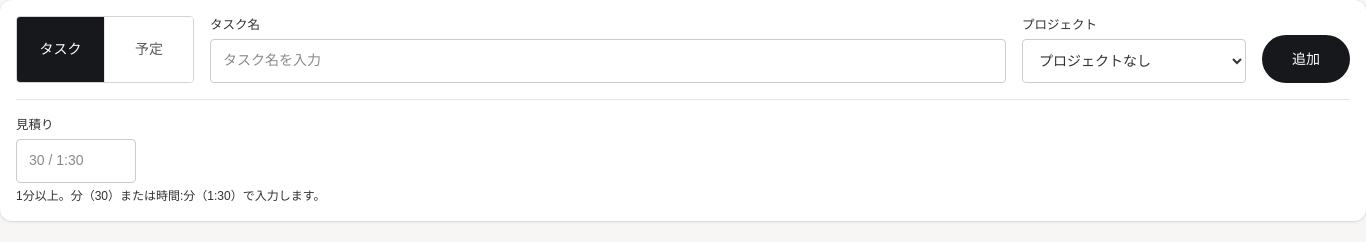
Test: InboxQuickCreate › validates schedule date relationships before submit
Click the tab "予定".
click(149, 49)  # box x1=105 y1=17 x2=193 y2=82
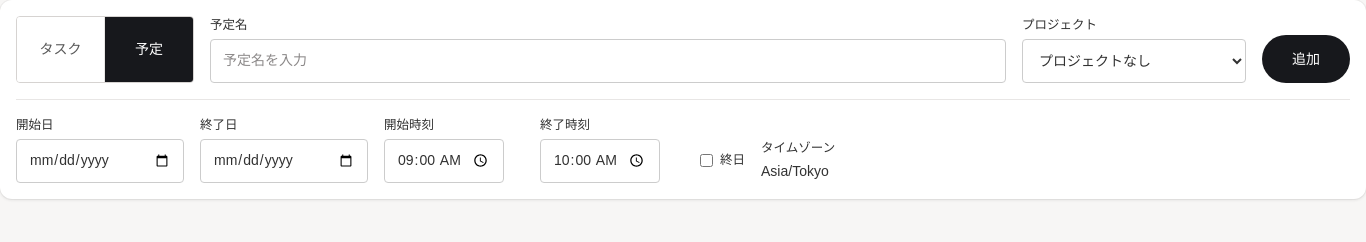
Type "2026-10-15" into the date field labelled "開始日".
click(100, 160); type("2026-10-15")  # box x1=16 y1=138 x2=184 y2=182
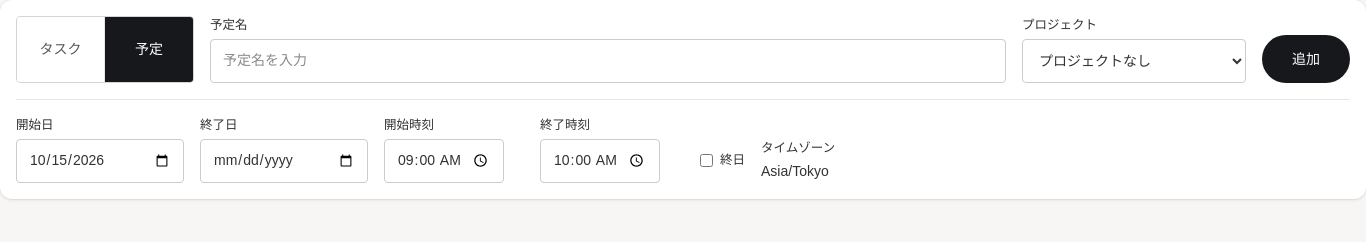
Type "2026-10-14" into the date field labelled "終了日".
click(284, 160); type("2026-10-14")  # box x1=200 y1=138 x2=368 y2=182
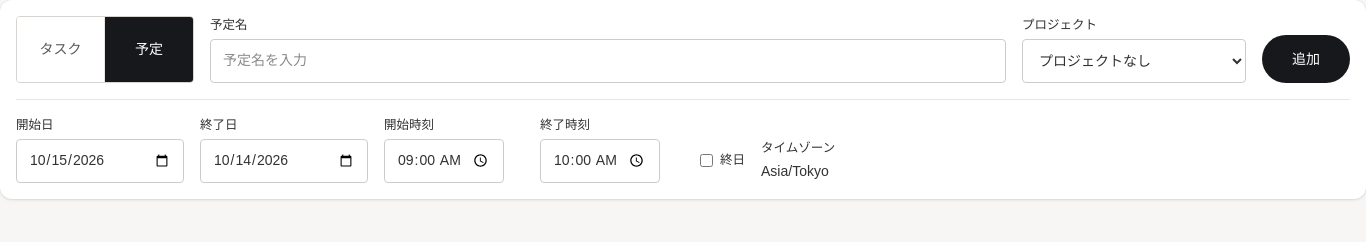
Type "Dentist" into the field labelled "予定名".
click(608, 61); type("Dentist")  # box x1=210 y1=39 x2=1006 y2=83
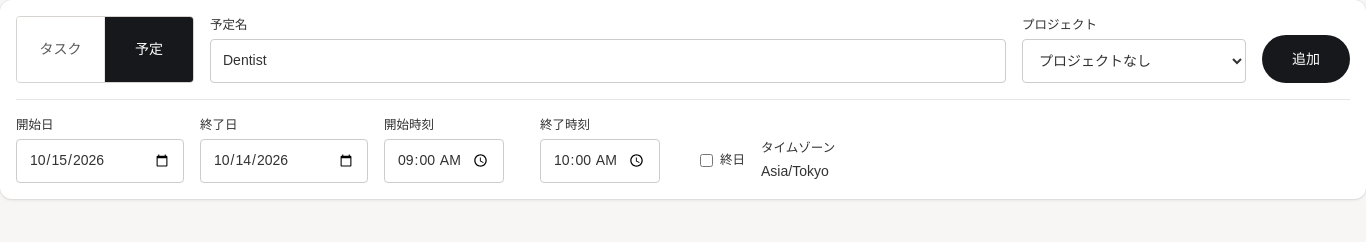
Click the button "追加".
click(1306, 59)  # box x1=1262 y1=35 x2=1350 y2=83
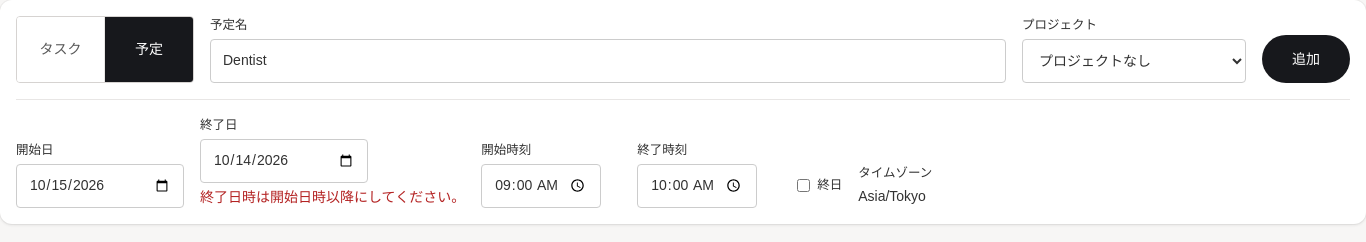
Result: the text "終了日時は開始日時以降にしてください。" is shown at x1=200 y1=186 x2=465 y2=208
